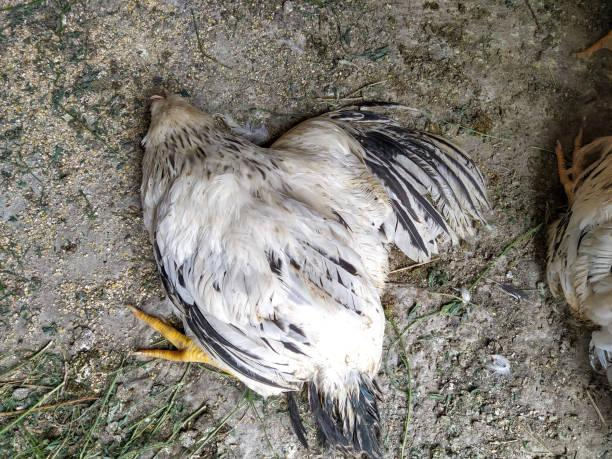AbNormal: (111, 71, 484, 458)
